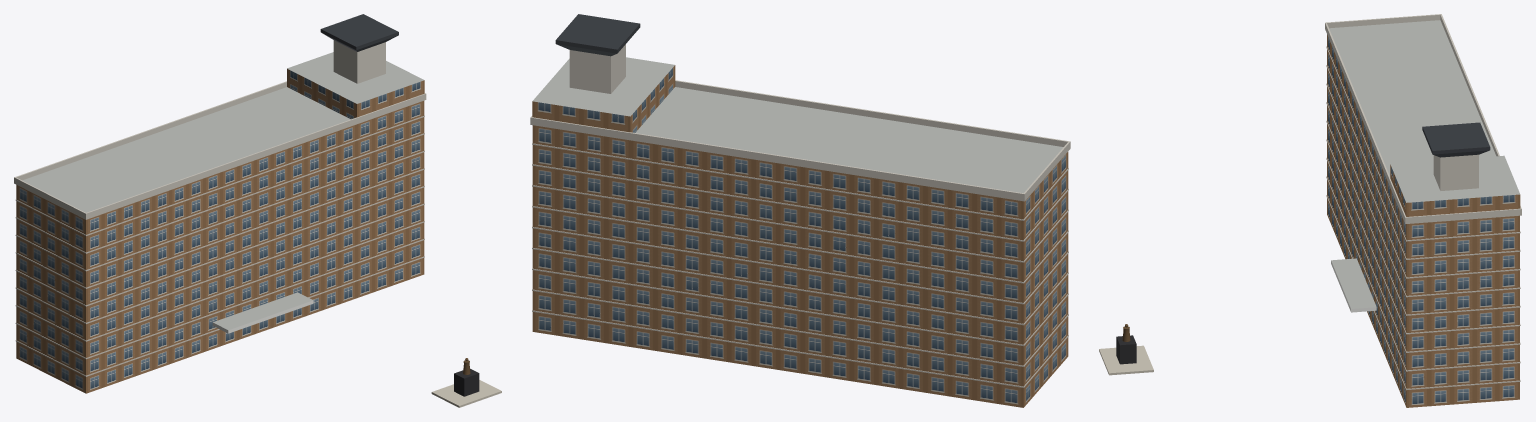
File: shangxianlou.glb
3 renders of one model, left to right at view 1: azimuth 30°, elevation 25°; view 2: azimuth 150°, elevation 25°; view 3: azimuth 270°, elevation 25°, orthographic. The views are drawn at different scales.
Visible parts, largest first — view 1: 尚贤楼, 尚贤楼_雕像; view 2: 尚贤楼; view 3: 尚贤楼, 尚贤楼_雕像.
Part boxes in pixels (x1,y1,x2,y2): 尚贤楼: (14, 14, 426, 393); 尚贤楼_雕像: (431, 358, 501, 407); 尚贤楼: (530, 14, 1070, 407); 尚贤楼: (1325, 14, 1521, 407); 尚贤楼_雕像: (1099, 324, 1153, 375).
Bounding box in the file's own units: 74.05 × 42.4 × 64.98.
8 materials, 1 textured.
